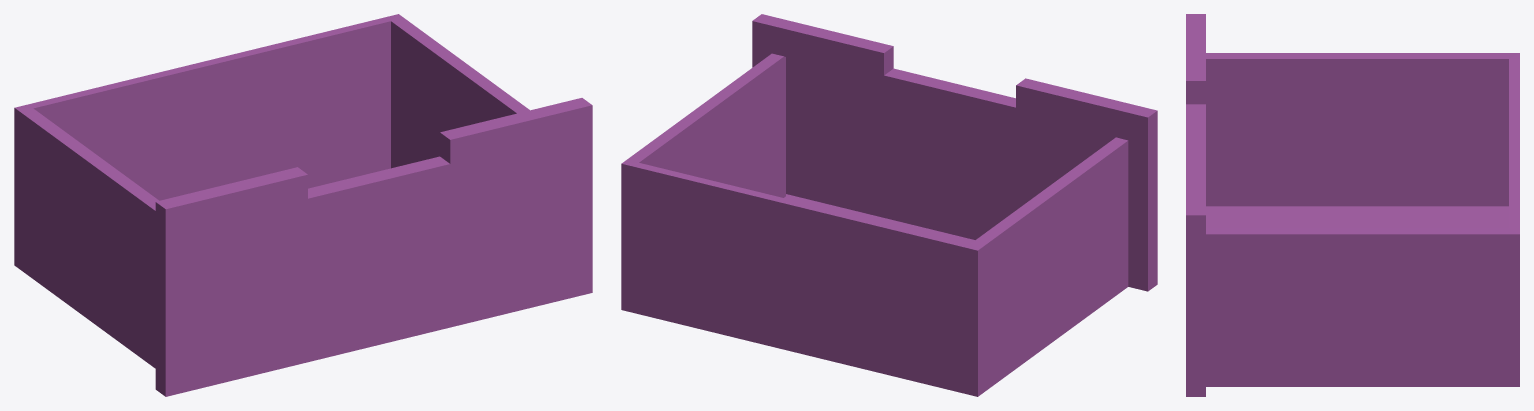
The model's file is Cajones_1.fbx.
The picture shows the model from 3 angles, left to right: view 1: azimuth 30°, elevation 25°; view 2: azimuth 150°, elevation 25°; view 3: azimuth 270°, elevation 25°; orthographic projection. The views are drawn at different scales.
Parts seen in each view (by area): view 1: Cajones.001; view 2: Cajones.001; view 3: Cajones.001.
Part boxes in pixels (x1,y1,x2,y2): Cajones.001: (14, 14, 592, 396); Cajones.001: (621, 14, 1157, 396); Cajones.001: (1186, 14, 1519, 396).
Size of the model in its own units: 0.2743 by 0.1153 by 0.1921.
